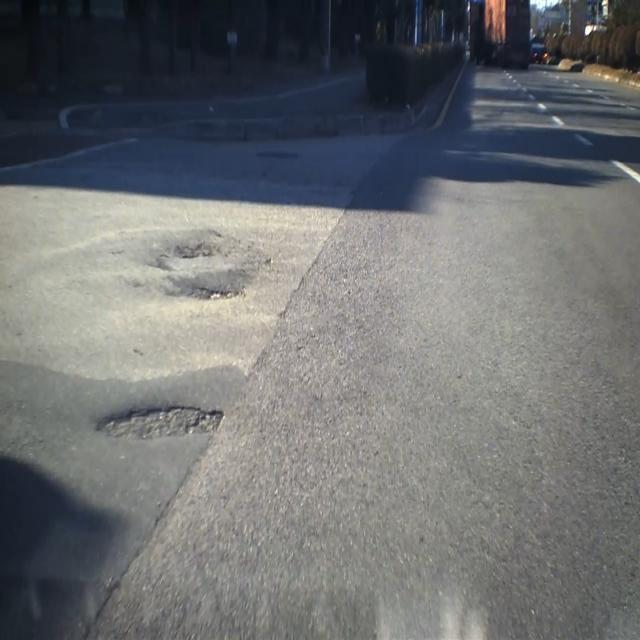pothole: (140, 226, 263, 316)
